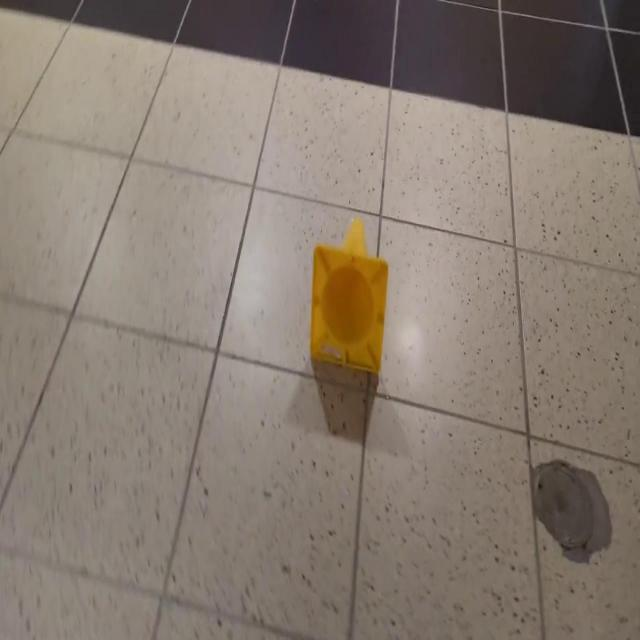frc_cone: (308, 215, 388, 376)
